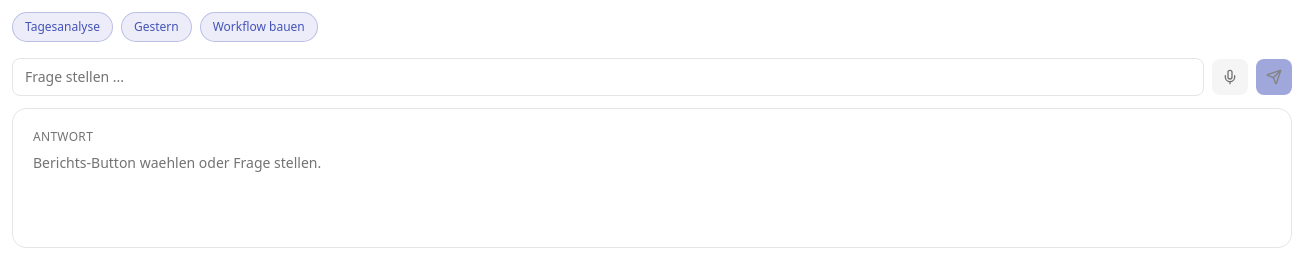
Test case: KIWorkspace › V7.6 NL-Builder mode-switch › input-bar is disabled with hint placeholder in nl-builder mode
Expected: the field with test id "ki-workspace-input" is enabled, [12,58,1204,96]
Click the button with test id "ki-workspace-report-nl-builder".
click(259, 27)  # box [200,12,318,42]
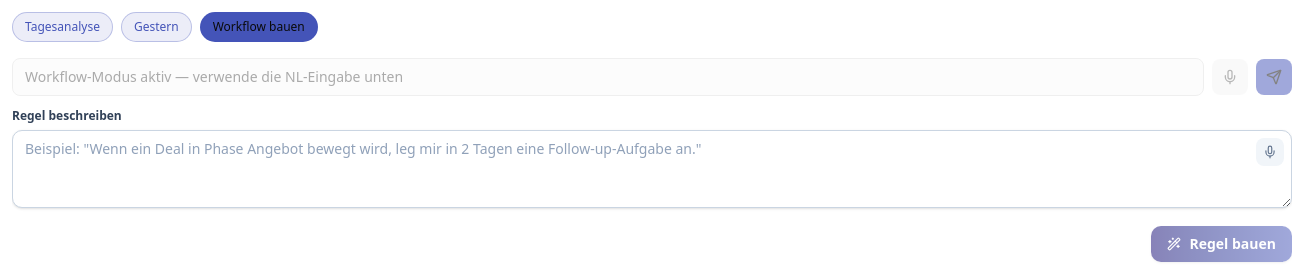
Expected: the button with test id "ki-workspace-send-button" is disabled, [1256,59,1292,95]
Expected: the field with test id "ki-workspace-input" is disabled, [12,58,1204,96]
Expected: the button with test id "ki-workspace-voice-button" is disabled, [1212,59,1248,95]
